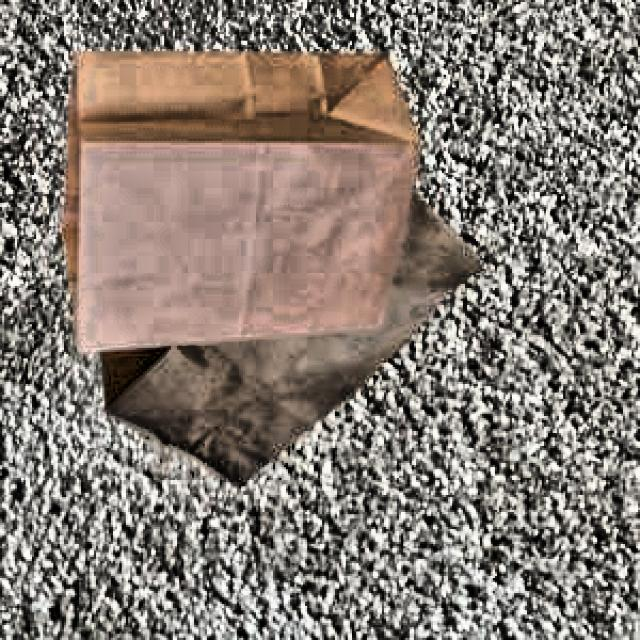Paper-bag: (82, 163, 486, 489), (43, 35, 425, 344)
